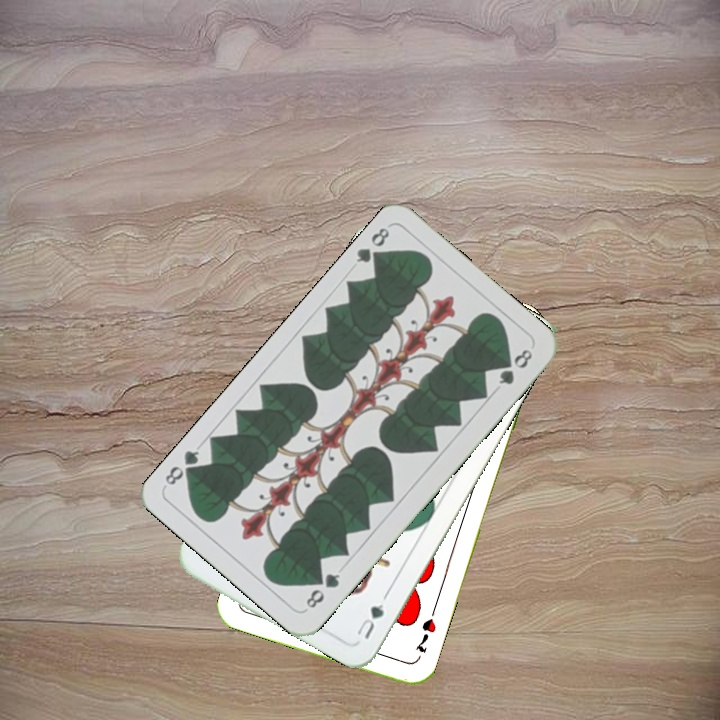G8: (351, 223, 392, 269), (301, 569, 343, 611)
GU: (352, 590, 391, 642)
H7: (411, 614, 439, 655)
